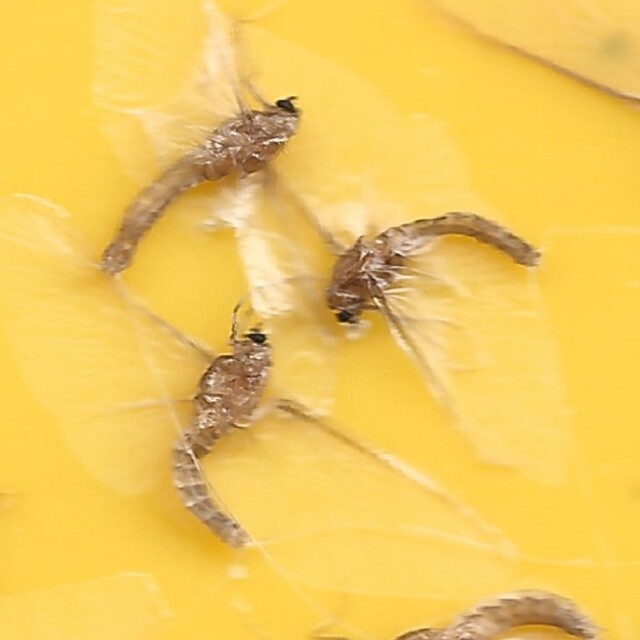Ephemeroptera: (97, 88, 315, 282), (322, 206, 543, 331), (174, 314, 288, 552)
